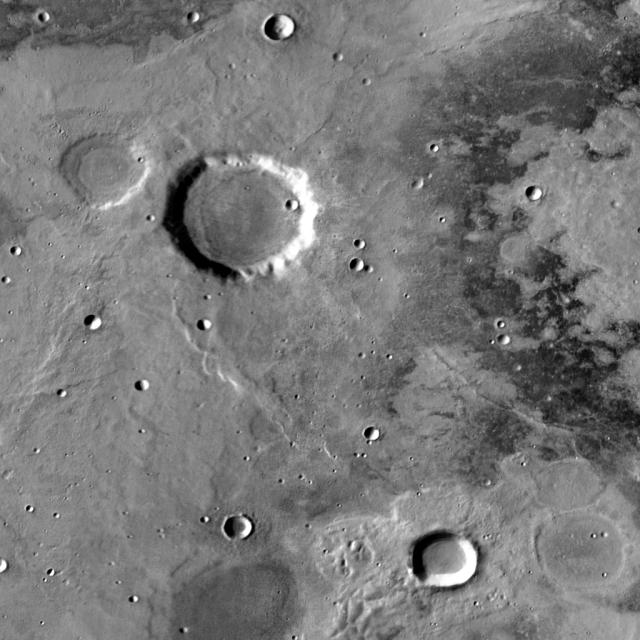crater: (170, 151, 322, 285), (153, 548, 323, 640), (542, 513, 636, 594), (66, 132, 154, 210), (414, 533, 482, 592), (270, 16, 300, 44), (229, 518, 258, 544), (90, 316, 106, 332), (531, 189, 548, 204), (0, 559, 14, 575), (370, 430, 386, 443), (290, 202, 304, 215), (141, 382, 156, 394), (203, 321, 218, 333), (355, 262, 369, 274), (43, 14, 56, 26), (359, 241, 372, 252), (193, 14, 206, 25), (418, 180, 430, 191), (16, 248, 27, 258), (505, 338, 516, 348), (338, 54, 348, 64), (185, 629, 194, 637), (62, 393, 72, 400), (368, 80, 376, 87), (135, 598, 142, 606), (618, 203, 626, 210), (207, 519, 214, 527), (7, 280, 15, 286), (370, 268, 378, 274), (145, 210, 153, 216), (482, 474, 490, 480), (436, 148, 443, 154), (496, 317, 503, 323), (47, 564, 54, 570), (25, 502, 32, 508), (356, 348, 363, 354), (512, 359, 519, 365)
